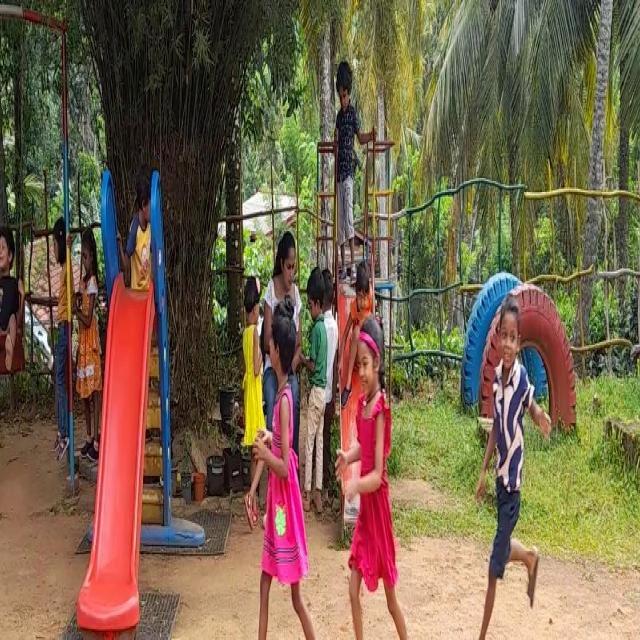child: (462, 292, 540, 640), (235, 309, 302, 640), (346, 329, 413, 640), (42, 209, 72, 454), (332, 43, 360, 277), (78, 218, 102, 457), (303, 282, 324, 508), (0, 205, 24, 373)
